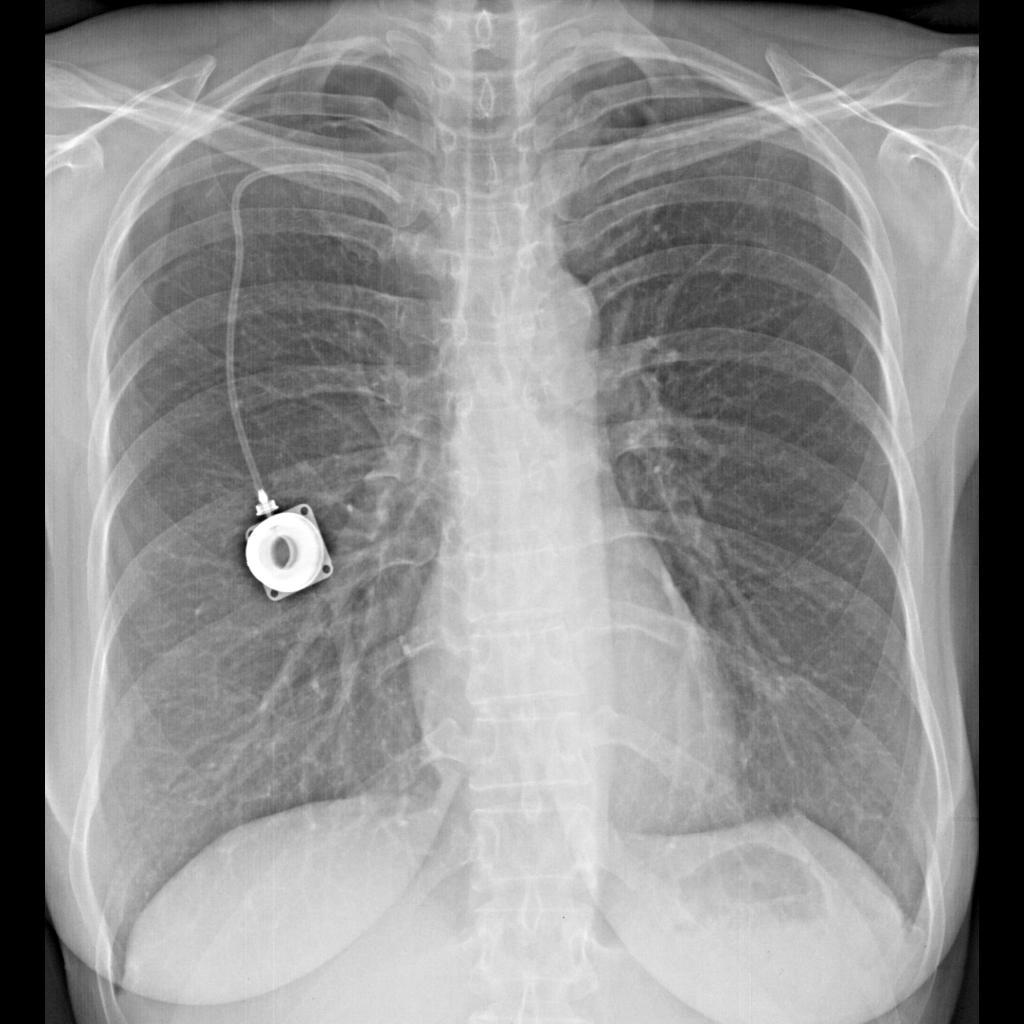Nodule: (759, 666, 796, 704)
